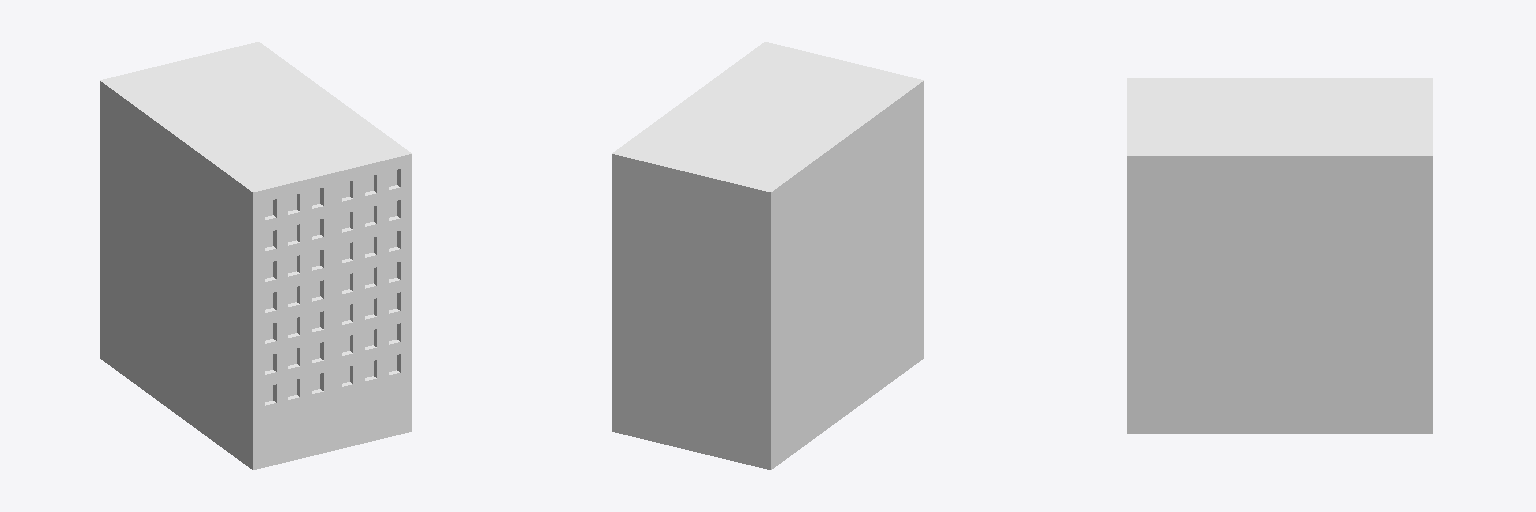
Rendered from bldg-1.obj.
3 renders of one model, left to right at view 1: azimuth 30°, elevation 25°; view 2: azimuth 150°, elevation 25°; view 3: azimuth 270°, elevation 25°, orthographic.
Bounding box in the file's own units: 27 × 45 × 45.